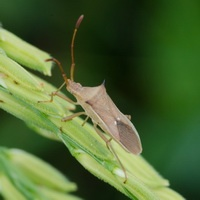insect: (45, 15, 141, 182)
